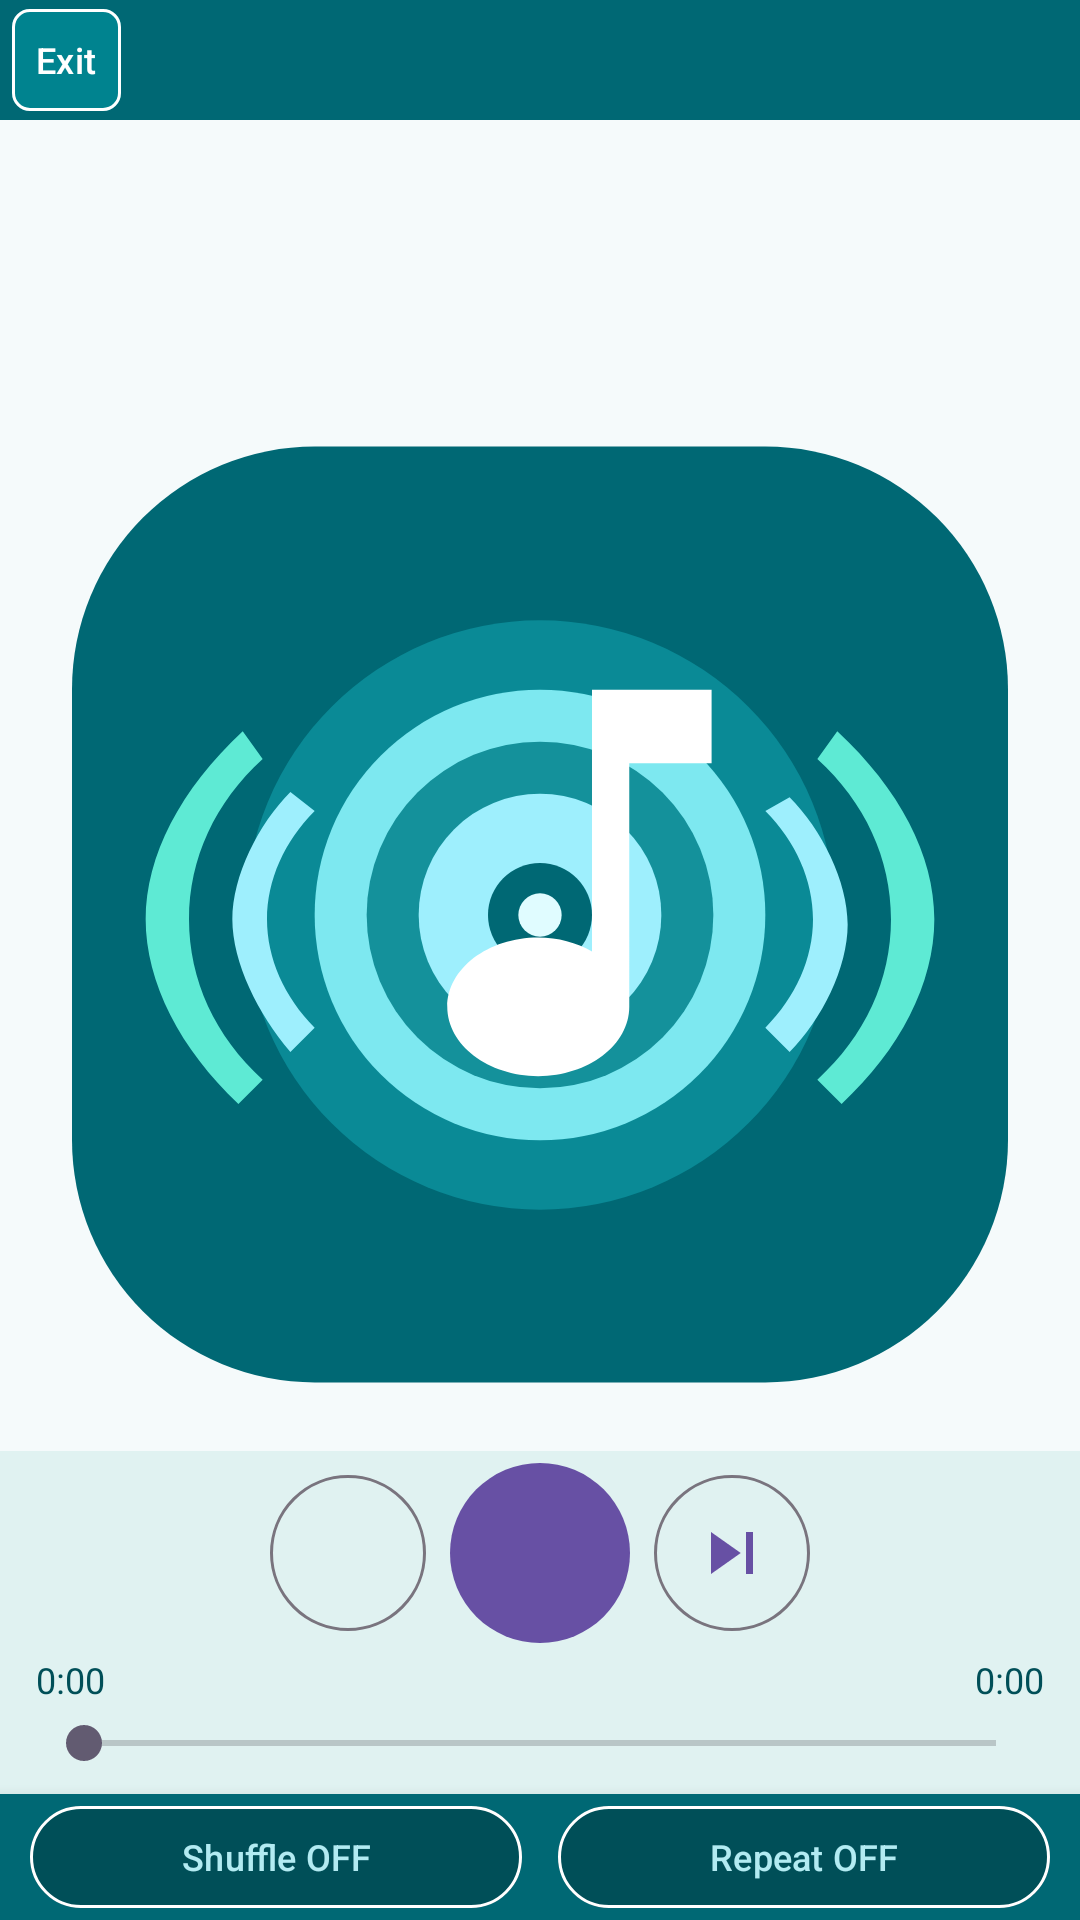

Locate icon controls on the screen. Image size 1080×1920, boxes as detection(x1, y1, x2, y2).
Next: detection(654, 1475, 810, 1631)
